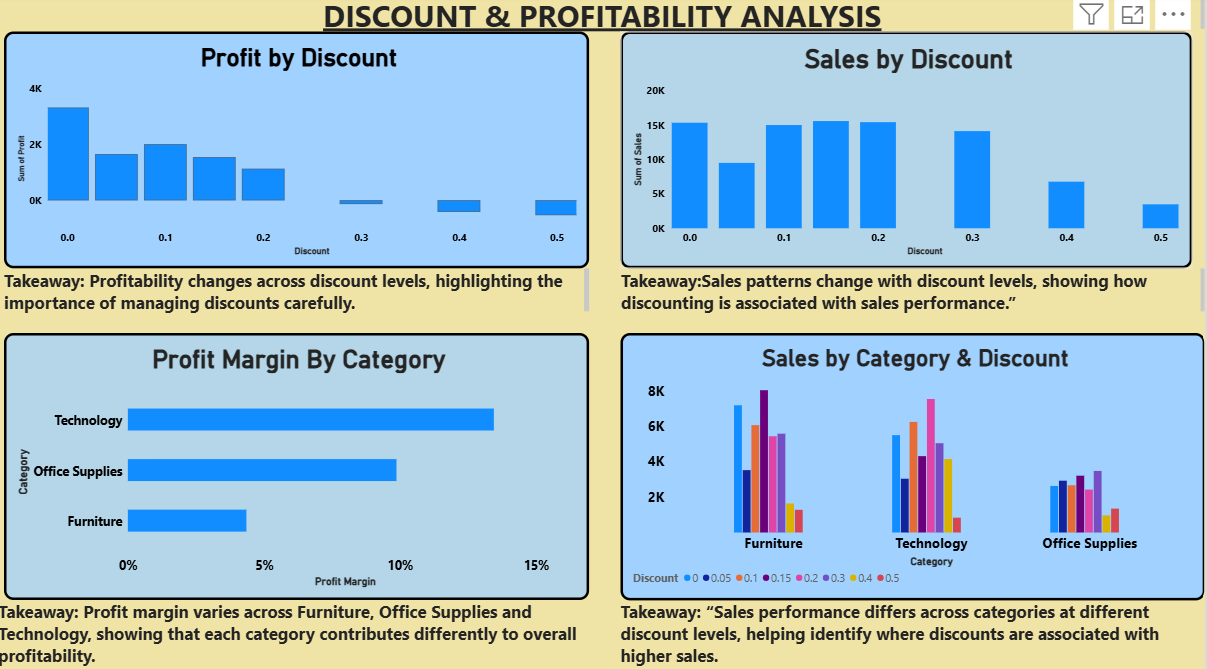

Layout of this report page (visuals, bound fields, positions):
{"tool":"powerbi","page":{"name":"Discount & Profitability Analysis","canvas":[1920,1080],"ordinal":3},"visuals":[{"type":"textbox","box":[9.5,0,1911.1,59.6],"z":0},{"type":"clusteredColumnChart","title":"Profit by Discount","fields":{"Category":["Superstore Data.Discount"],"Y":["Sum(Superstore Data.Profit)"]},"box":[9.5,59.6,930.5,377],"z":1000},{"type":"textbox","box":[9.5,436.6,930.5,69.2],"z":2000},{"type":"clusteredColumnChart","title":" Sales by Discount","fields":{"Category":["Superstore Data.Discount"],"Y":["Sum(Superstore Data.Sales)"]},"box":[990.2,59.6,909,377],"z":3000},{"type":"textbox","box":[990.2,436.6,930.5,69.2],"z":4000},{"type":"clusteredBarChart","title":"Profit Margin By Category","fields":{"Category":["Superstore Data.Category"],"Y":["Superstore Data.Profit Margin"]},"box":[9.5,539.2,930.5,424.7],"z":5000},{"type":"textbox","box":[0,963.9,940.1,116.9],"z":6000},{"type":"clusteredColumnChart","title":"Sales by Category & Discount","fields":{"Category":["Superstore Data.Category"],"Series":["Superstore Data.Discount"],"Y":["Sum(Superstore Data.Sales)"]},"box":[990,539,930,425],"z":7000},{"type":"textbox","box":[990.2,963.9,930.5,116.9],"z":8000}]}

Visuals, with their boxes in screenshot pixels (x1, y1, x2, y2), scaled from the page's 1920x1080 canvas onto the 1207x669 screenshot:
textbox: (x1=6, y1=0, x2=1206, y2=37)
"Profit by Discount" clusteredColumnChart: (x1=6, y1=37, x2=591, y2=270)
textbox: (x1=6, y1=270, x2=591, y2=313)
" Sales by Discount" clusteredColumnChart: (x1=622, y1=37, x2=1194, y2=270)
textbox: (x1=622, y1=270, x2=1206, y2=313)
"Profit Margin By Category" clusteredBarChart: (x1=6, y1=334, x2=591, y2=597)
textbox: (x1=0, y1=597, x2=591, y2=668)
"Sales by Category & Discount" clusteredColumnChart: (x1=622, y1=334, x2=1206, y2=597)
textbox: (x1=622, y1=597, x2=1206, y2=668)
